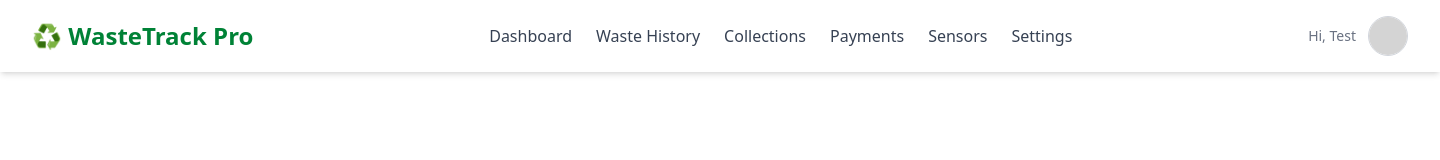
Navbar › toggles user menu and shows actions
The image size is (1440, 160).
Click the button "Hi, Test".
click(1358, 36)  # box [1308, 16, 1408, 56]
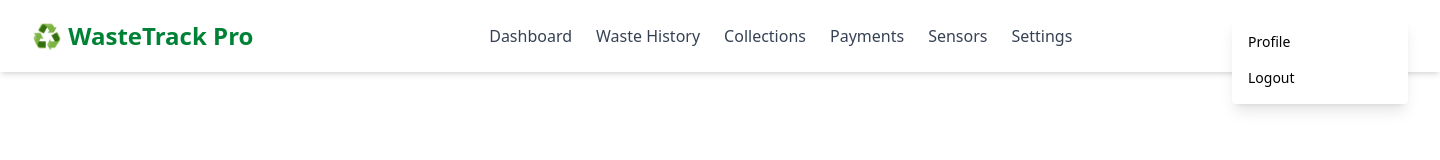
Check: the button "Profile" is shown, box [1232, 24, 1408, 60]
Check: the button "Logout" is shown, box [1232, 60, 1408, 96]
